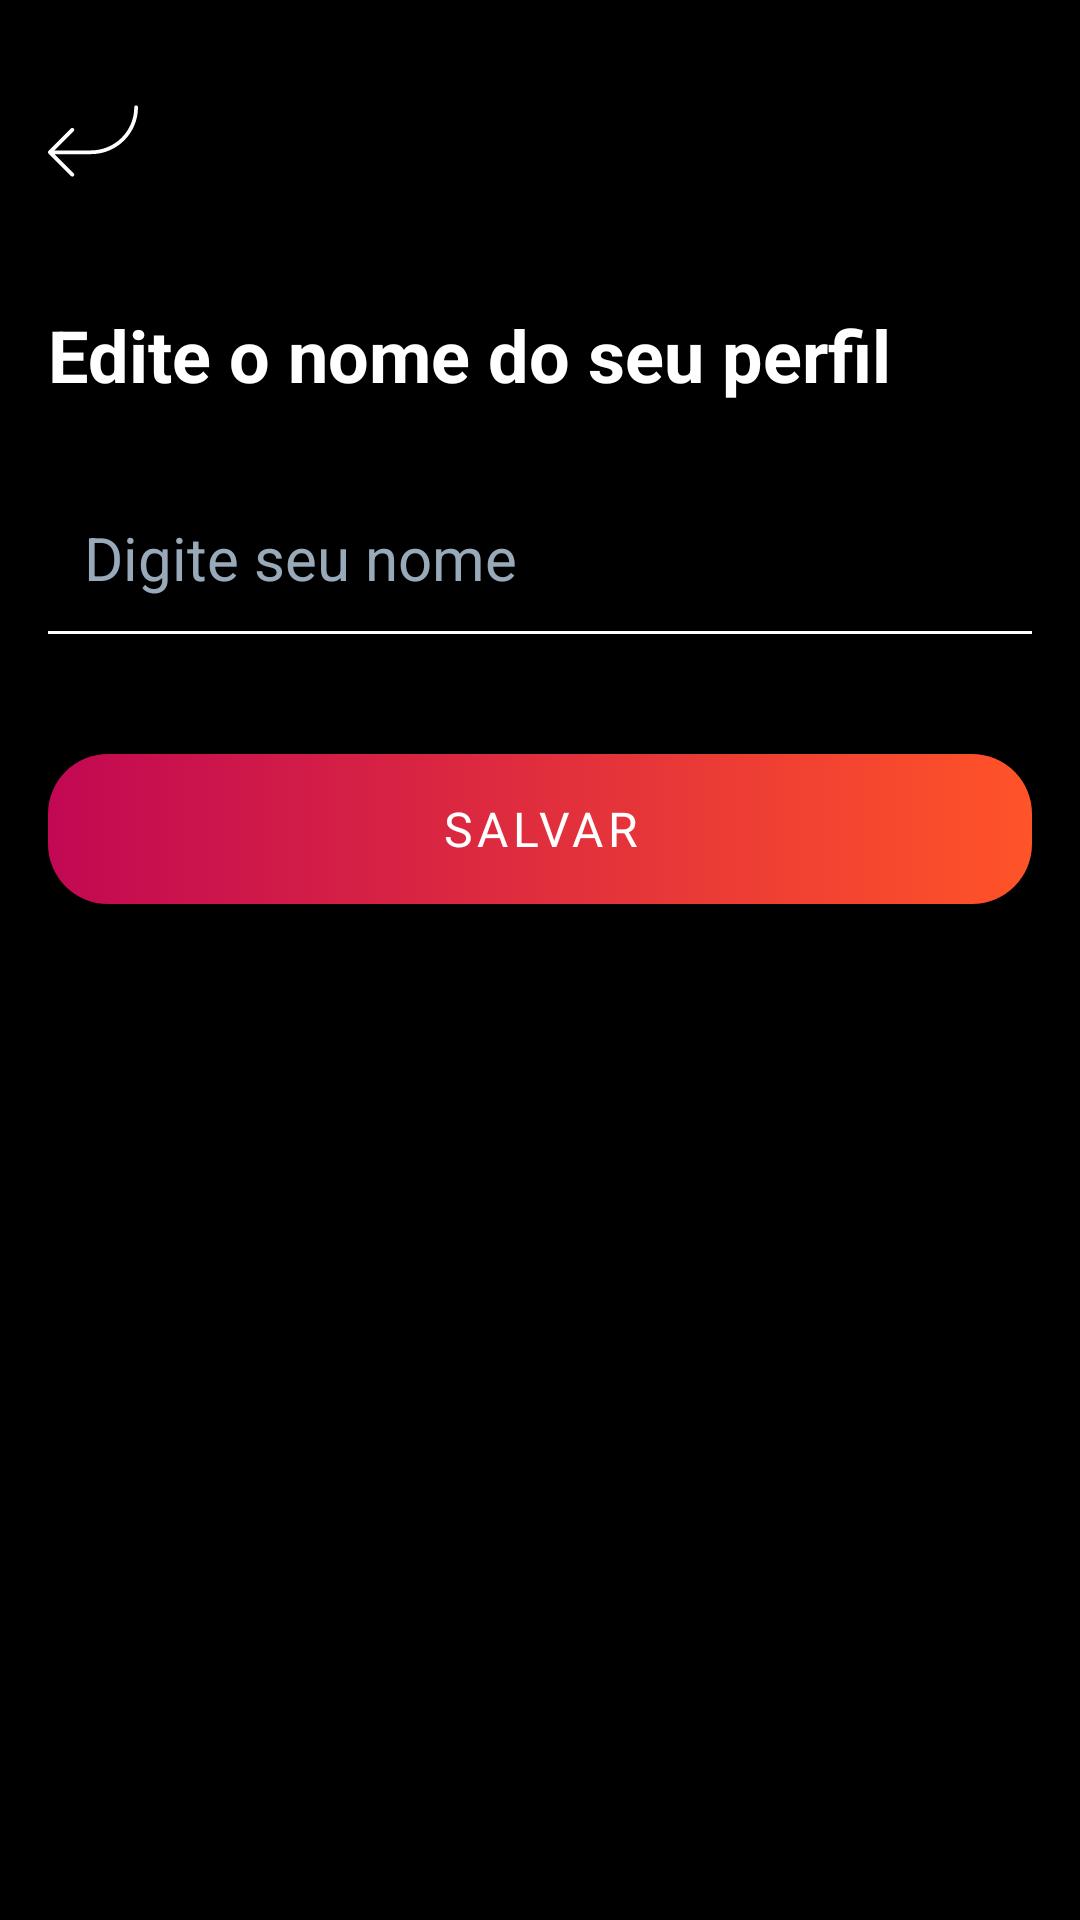

Named icons in this screenshot (1080*1920) and their bounding boxes, (x1, y1, x2, y2):
Voltar: (48, 105, 138, 177)
